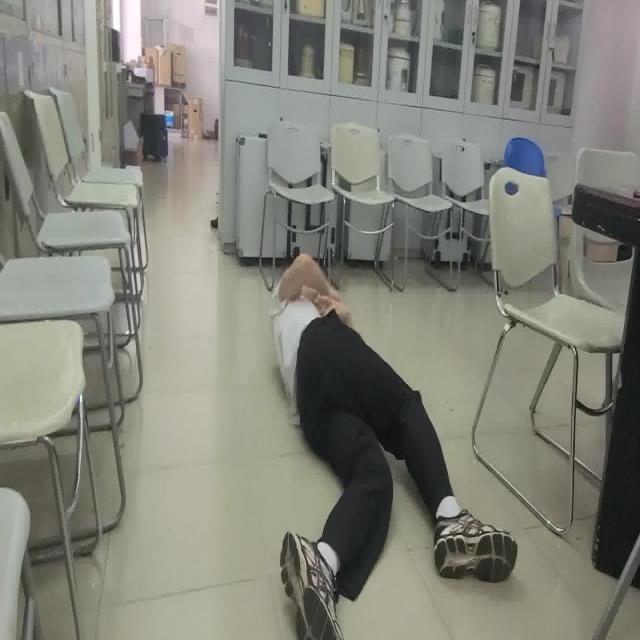fall: (271, 254, 521, 640)
